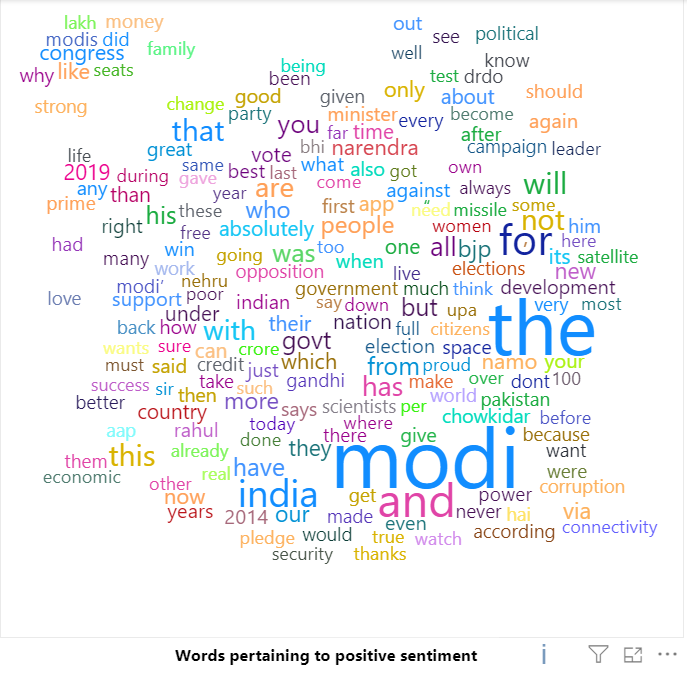

Layout of this report page (visuals, bound fields, positions):
{"tool":"powerbi","page":{"name":"Word Cloud","canvas":[1280,720],"ordinal":1},"visuals":[{"type":"WordCloud1447959067750","fields":{"Category":["Twitter_Data_Predictions.clean_text"]},"box":[9.8,0,668.7,624.7],"z":0},{"type":"textbox","box":[176,624.7,321.5,62.3],"z":1},{"type":"WordCloud1447959067750","fields":{"Category":["Twitter_Data_Predictions.clean_text"]},"box":[689.4,0,590.4,624.7],"z":2},{"type":"textbox","box":[814.1,624.7,321.5,62.3],"z":3}]}

Visuals, with their boxes on the page's 1280x720 design canvas (x1, y1, x2, y2). These are canvas units, not pixel positions in the 687x673 screenshot, which may show the page scaled, cropped or inside an application window:
WordCloud1447959067750 - Twitter_Data_Predictions.clean_text: 10/0/678/625
textbox: 176/625/498/687
WordCloud1447959067750 - Twitter_Data_Predictions.clean_text: 689/0/1280/625
textbox: 814/625/1136/687
